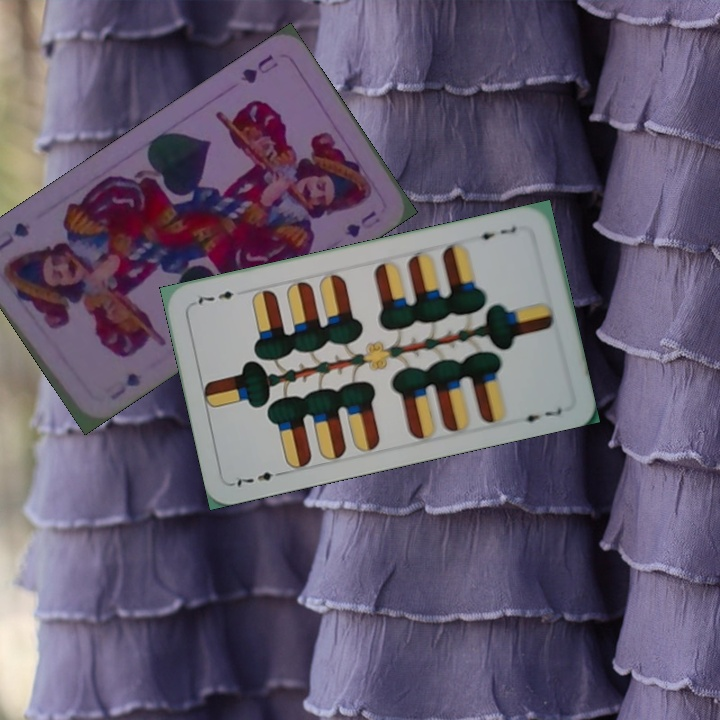E7: (231, 467, 288, 489), (471, 222, 520, 243)
GU: (236, 50, 281, 87), (106, 368, 145, 404)
